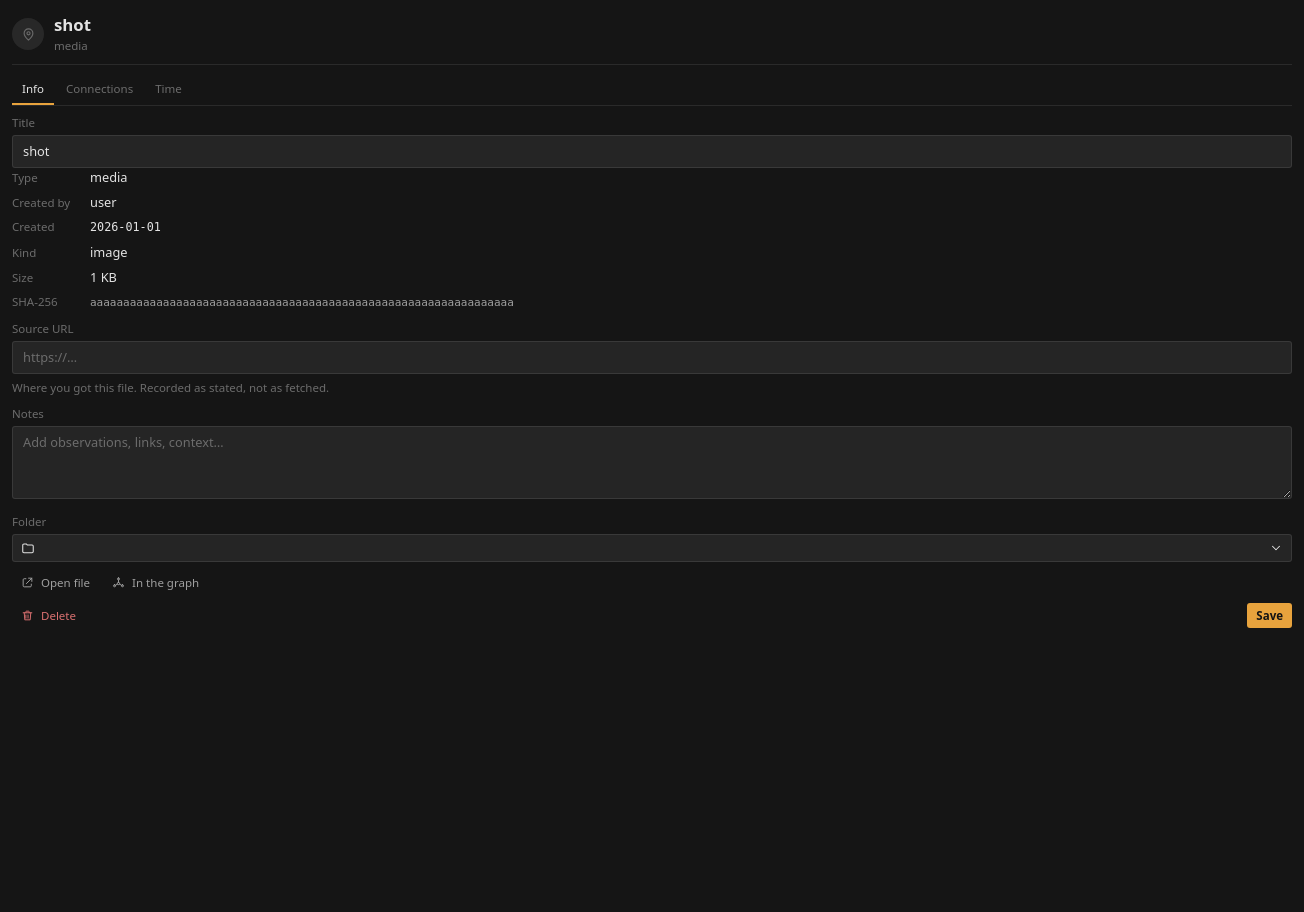
Test: the source of a file the analyst brought in › refuses to save an origin that is not an address
Type "a friend sent it" into the field with id "ed-source" at [652, 358], box [12,341,1292,374]
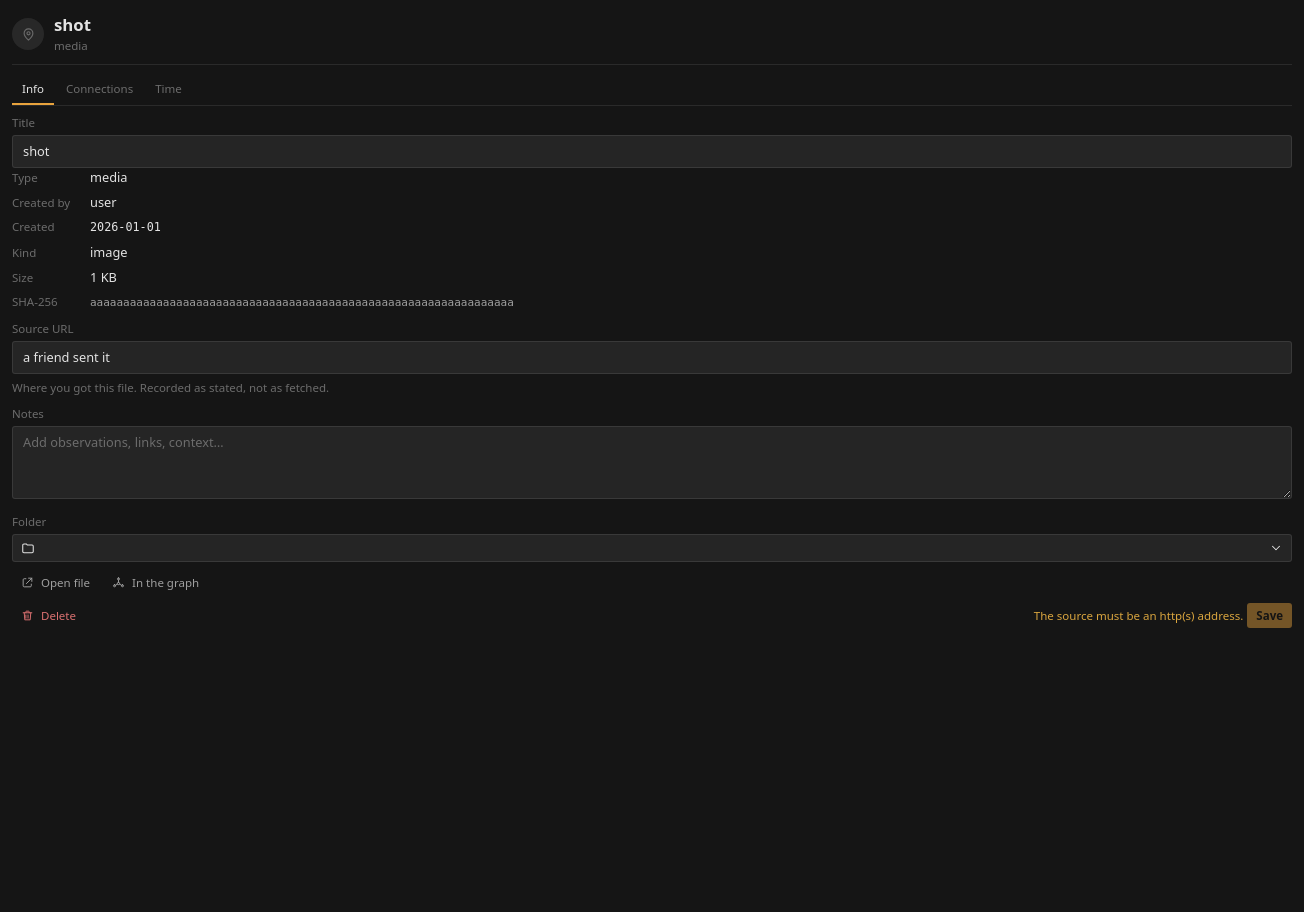
Check: the button "Save" is disabled, box [1247,603,1292,628]
Check: the text "The source must be an http(s) address." is shown, box [1034,607,1243,624]
